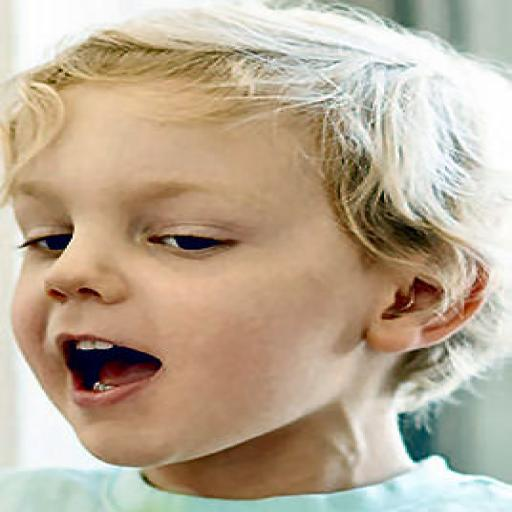Autism: (9, 8, 512, 493)
